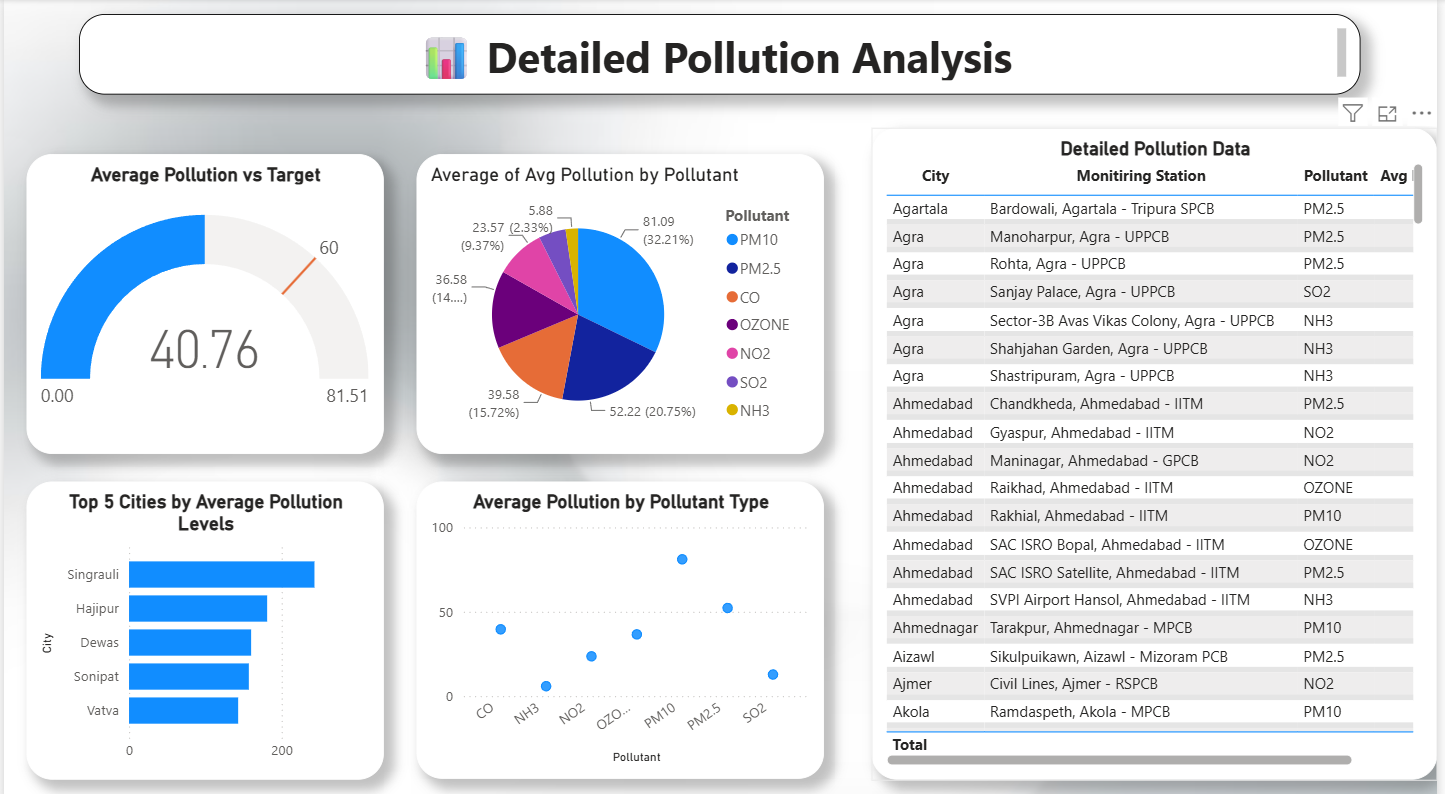

Layout of this report page (visuals, bound fields, positions):
{"tool":"powerbi","page":{"name":"Page 2","canvas":[1280,720],"ordinal":1},"visuals":[{"type":"textbox","box":[67.5,13.9,1145,72.3],"z":1000},{"type":"clusteredBarChart","title":"Top 5 Cities by Average Pollution Levels","fields":{"Category":["AQI of different cities in INDIA.City"],"Y":["Sum(AQI of different cities in INDIA.Avg Pollution)"]},"box":[20,430.5,319.3,266.5],"z":2000},{"type":"gauge","title":"Average Pollution vs Target","fields":{"TargetValue":["AQI of different cities in INDIA.Target Pollution"],"Y":["Avg(AQI of different cities in INDIA.Avg Pollution)"]},"box":[20.4,137.9,318.8,268],"z":3000},{"type":"scatterChart","title":"Average Pollution by Pollutant Type","fields":{"X":["AQI of different cities in INDIA.Pollutant"],"Y":["Avg(AQI of different cities in INDIA.Avg Pollution)"]},"box":[368.6,430.8,364.1,265.7],"z":4000},{"type":"tableEx","title":"Detailed Pollution Data","fields":{"Values":["AQI of different cities in INDIA.City","AQI of different cities in INDIA.Monitiring Station","AQI of different cities in INDIA.Pollutant","Sum(AQI of different cities in INDIA.Avg Pollution)"]},"box":[758.3,114,506,583],"z":5000},{"type":"pieChart","fields":{"Category":["AQI of different cities in INDIA.Pollutant"],"Y":["Avg(AQI of different cities in INDIA.Avg Pollution)"]},"box":[368.6,137.9,364.1,268],"z":5001}]}

Visuals, with their boxes on the page's 1280x720 design canvas (x1, y1, x2, y2). These are canvas units, not pixel positions in the 1445x794 screenshot, which may show the page scaled, cropped or inside an application window:
textbox: [68,14,1212,86]
"Top 5 Cities by Average Pollution Levels" clusteredBarChart: [20,430,339,697]
"Average Pollution vs Target" gauge: [20,138,339,406]
"Average Pollution by Pollutant Type" scatterChart: [369,431,733,696]
"Detailed Pollution Data" tableEx: [758,114,1264,697]
pieChart - AQI of different cities in INDIA.Pollutant x Avg(AQI of different cities in INDIA.Avg Pollution): [369,138,733,406]
